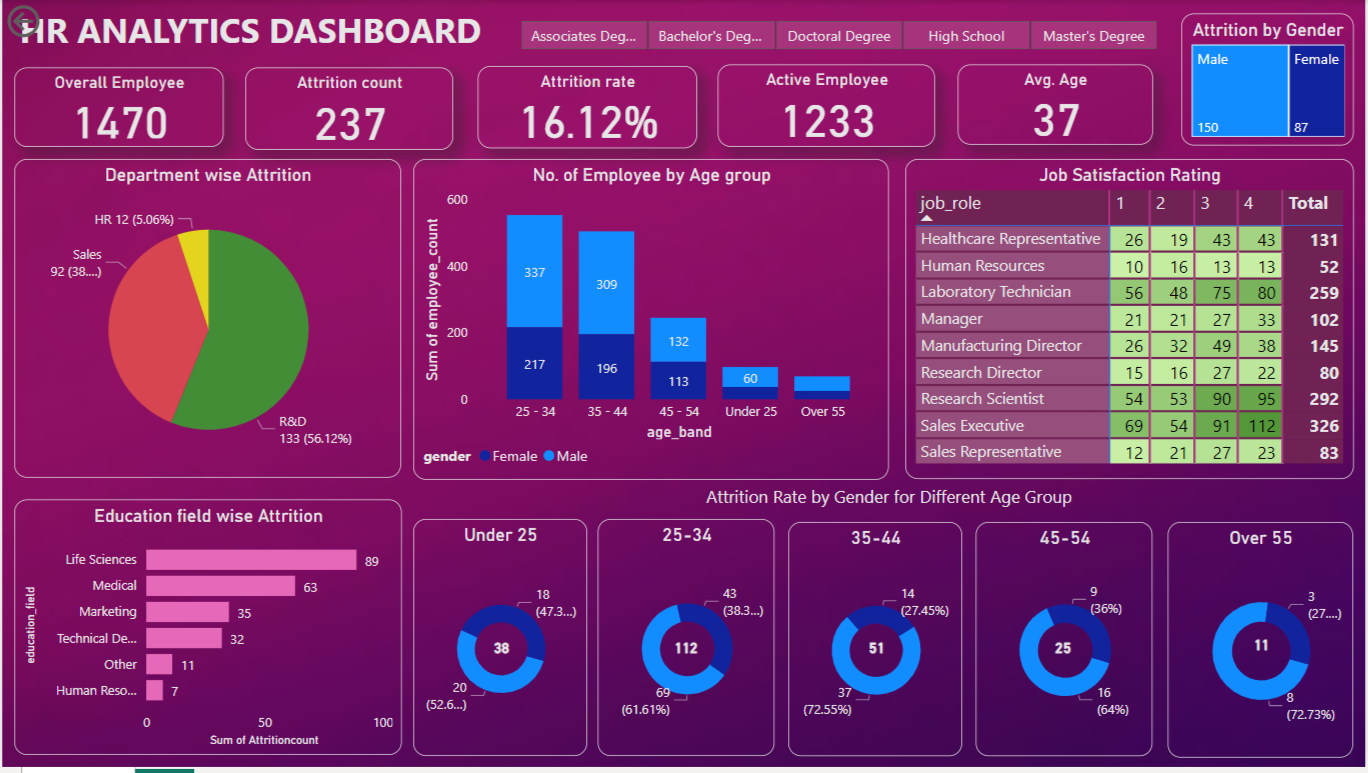

What the dashboard file says about the page in this screenshot:
{"tool":"powerbi","page":{"name":"Page 1","canvas":[1280,720],"ordinal":0},"visuals":[{"type":"textbox","box":[10.6,0,458.4,60.5],"z":0},{"type":"card","title":"Overall Employee ","fields":{"Values":["Sum(hrdata.employee_count)"]},"box":[10.7,64.1,196.8,74.8],"z":1000},{"type":"actionButton","box":[0,0,100,40],"z":2000},{"type":"card","title":"Attrition count","fields":{"Values":["Sum(hrdata.Attritioncount)"]},"box":[228.5,63.5,195.2,77.2],"z":3000},{"type":"card","title":"Attrition rate","fields":{"Values":["hrdata.Measure"]},"box":[446.3,62,205.8,77.2],"z":4000},{"type":"card","title":"Active Employee","fields":{"Values":["Sum(hrdata.active_employee)"]},"box":[671.8,60.5,204.3,77.2],"z":5000},{"type":"card","title":"Avg. Age","fields":{"Values":["Avg(hrdata.age)"]},"box":[897.2,60.5,183.1,75.7],"z":6000},{"type":"pieChart","title":"Department wise Attrition","fields":{"Category":["hrdata.department"],"Y":["Sum(hrdata.Attritioncount)"]},"box":[10.6,149.8,363.1,299.6],"z":7000},{"type":"columnChart","title":"No. of Employee by Age group","fields":{"Y":["Sum(hrdata.employee_count)"],"Category":["hrdata.age_band"],"Series":["hrdata.gender"]},"box":[386,149.6,447,301.1],"z":8000},{"type":"pivotTable","title":"Job Satisfaction Rating","fields":{"Rows":["hrdata.job_role"],"Columns":["hrdata.job_satisfaction"],"Values":["Sum(hrdata.employee_count)"]},"box":[848.2,149.5,421.1,300.5],"z":9000},{"type":"barChart","title":"Education field wise Attrition","fields":{"Y":["Sum(hrdata.Attritioncount)"],"Category":["hrdata.education_field"]},"box":[11.1,469.1,363.9,240.1],"z":10000},{"type":"textbox","box":[386,450.1,894,35.1],"z":11000},{"type":"donutChart","title":"25-34","fields":{"Category":["hrdata.gender"],"Series":["hrdata.age_band"],"Y":["Sum(hrdata.Attritioncount)"]},"box":[559.9,488.2,166.3,222.7],"z":12000},{"type":"donutChart","title":"35-44","fields":{"Category":["hrdata.gender"],"Series":["hrdata.age_band"],"Y":["Sum(hrdata.Attritioncount)"]},"box":[738.4,489.7,163.2,219.7],"z":13000},{"type":"donutChart","title":"45-54","fields":{"Category":["hrdata.gender"],"Series":["hrdata.age_band"],"Y":["Sum(hrdata.Attritioncount)"]},"box":[913.8,489.7,166.3,219.7],"z":14000},{"type":"donutChart","title":"Over 55","fields":{"Category":["hrdata.gender"],"Series":["hrdata.age_band"],"Y":["Sum(hrdata.Attritioncount)"]},"box":[1095.4,489.7,173.9,221.2],"z":15000},{"type":"donutChart","title":"Under 25","fields":{"Category":["hrdata.gender"],"Series":["hrdata.age_band"],"Y":["Sum(hrdata.Attritioncount)"]},"box":[386,488.2,163.2,222.7],"z":16000},{"type":"card","fields":{"Values":["Sum(hrdata.Attritioncount)"]},"box":[448.5,595,41.2,30.5],"z":17000},{"type":"card","fields":{"Values":["Sum(hrdata.Attritioncount)"]},"box":[620.9,595,41.2,30.5],"z":18000},{"type":"card","fields":{"Values":["Sum(hrdata.Attritioncount)"]},"box":[801,595,41.2,30.5],"z":19000},{"type":"card","fields":{"Values":["Sum(hrdata.Attritioncount)"]},"box":[977.9,595,36.6,30.5],"z":20000},{"type":"card","fields":{"Values":["Sum(hrdata.Attritioncount)"]},"box":[1157.9,588.9,48.8,36.6],"z":21000},{"type":"treemap","title":"Attrition by Gender","fields":{"Group":["hrdata.gender"],"Values":["Sum(hrdata.Attritioncount)"]},"box":[1107.5,12.1,161.9,124.1],"z":22000},{"type":"slicer","fields":{"Values":["hrdata.education"]},"box":[461.5,12.1,646.1,36.3],"z":23000}]}

Visuals, with their boxes in screenshot pixels (x1, y1, x2, y2), scaled from the page's 1280x720 canvas onto the 1368x773 screenshot:
textbox: BBox(11, 0, 501, 65)
"Overall Employee " card: BBox(11, 69, 222, 149)
actionButton: BBox(0, 0, 107, 43)
"Attrition count" card: BBox(244, 68, 453, 151)
"Attrition rate" card: BBox(477, 67, 697, 149)
"Active Employee" card: BBox(718, 65, 936, 148)
"Avg. Age" card: BBox(959, 65, 1155, 146)
"Department wise Attrition" pieChart: BBox(11, 161, 399, 482)
"No. of Employee by Age group" columnChart: BBox(413, 161, 890, 484)
"Job Satisfaction Rating" pivotTable: BBox(907, 161, 1357, 483)
"Education field wise Attrition" barChart: BBox(12, 504, 401, 761)
textbox: BBox(413, 483, 1367, 521)
"25-34" donutChart: BBox(598, 524, 776, 763)
"35-44" donutChart: BBox(789, 526, 964, 762)
"45-54" donutChart: BBox(977, 526, 1154, 762)
"Over 55" donutChart: BBox(1171, 526, 1357, 763)
"Under 25" donutChart: BBox(413, 524, 587, 763)
card - Sum(hrdata.Attritioncount): BBox(479, 639, 523, 672)
card - Sum(hrdata.Attritioncount): BBox(664, 639, 708, 672)
card - Sum(hrdata.Attritioncount): BBox(856, 639, 900, 672)
card - Sum(hrdata.Attritioncount): BBox(1045, 639, 1084, 672)
card - Sum(hrdata.Attritioncount): BBox(1238, 632, 1290, 672)
"Attrition by Gender" treemap: BBox(1184, 13, 1357, 146)
slicer - hrdata.education: BBox(493, 13, 1184, 52)
